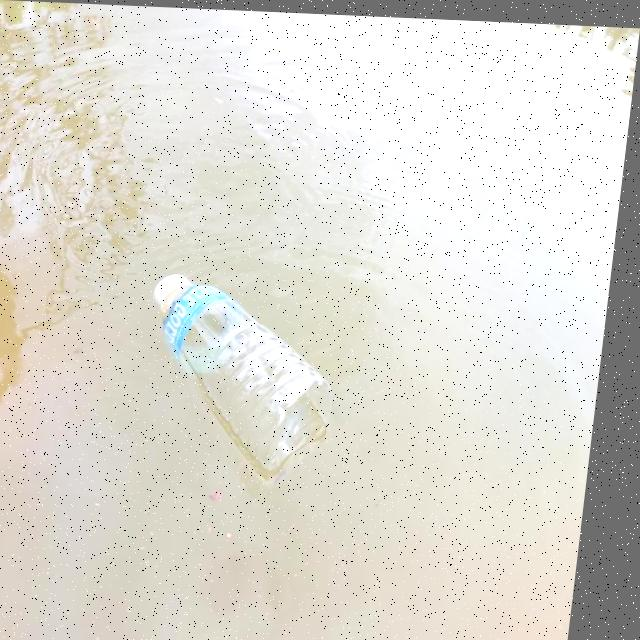waterbottle: (144, 239, 358, 492)
